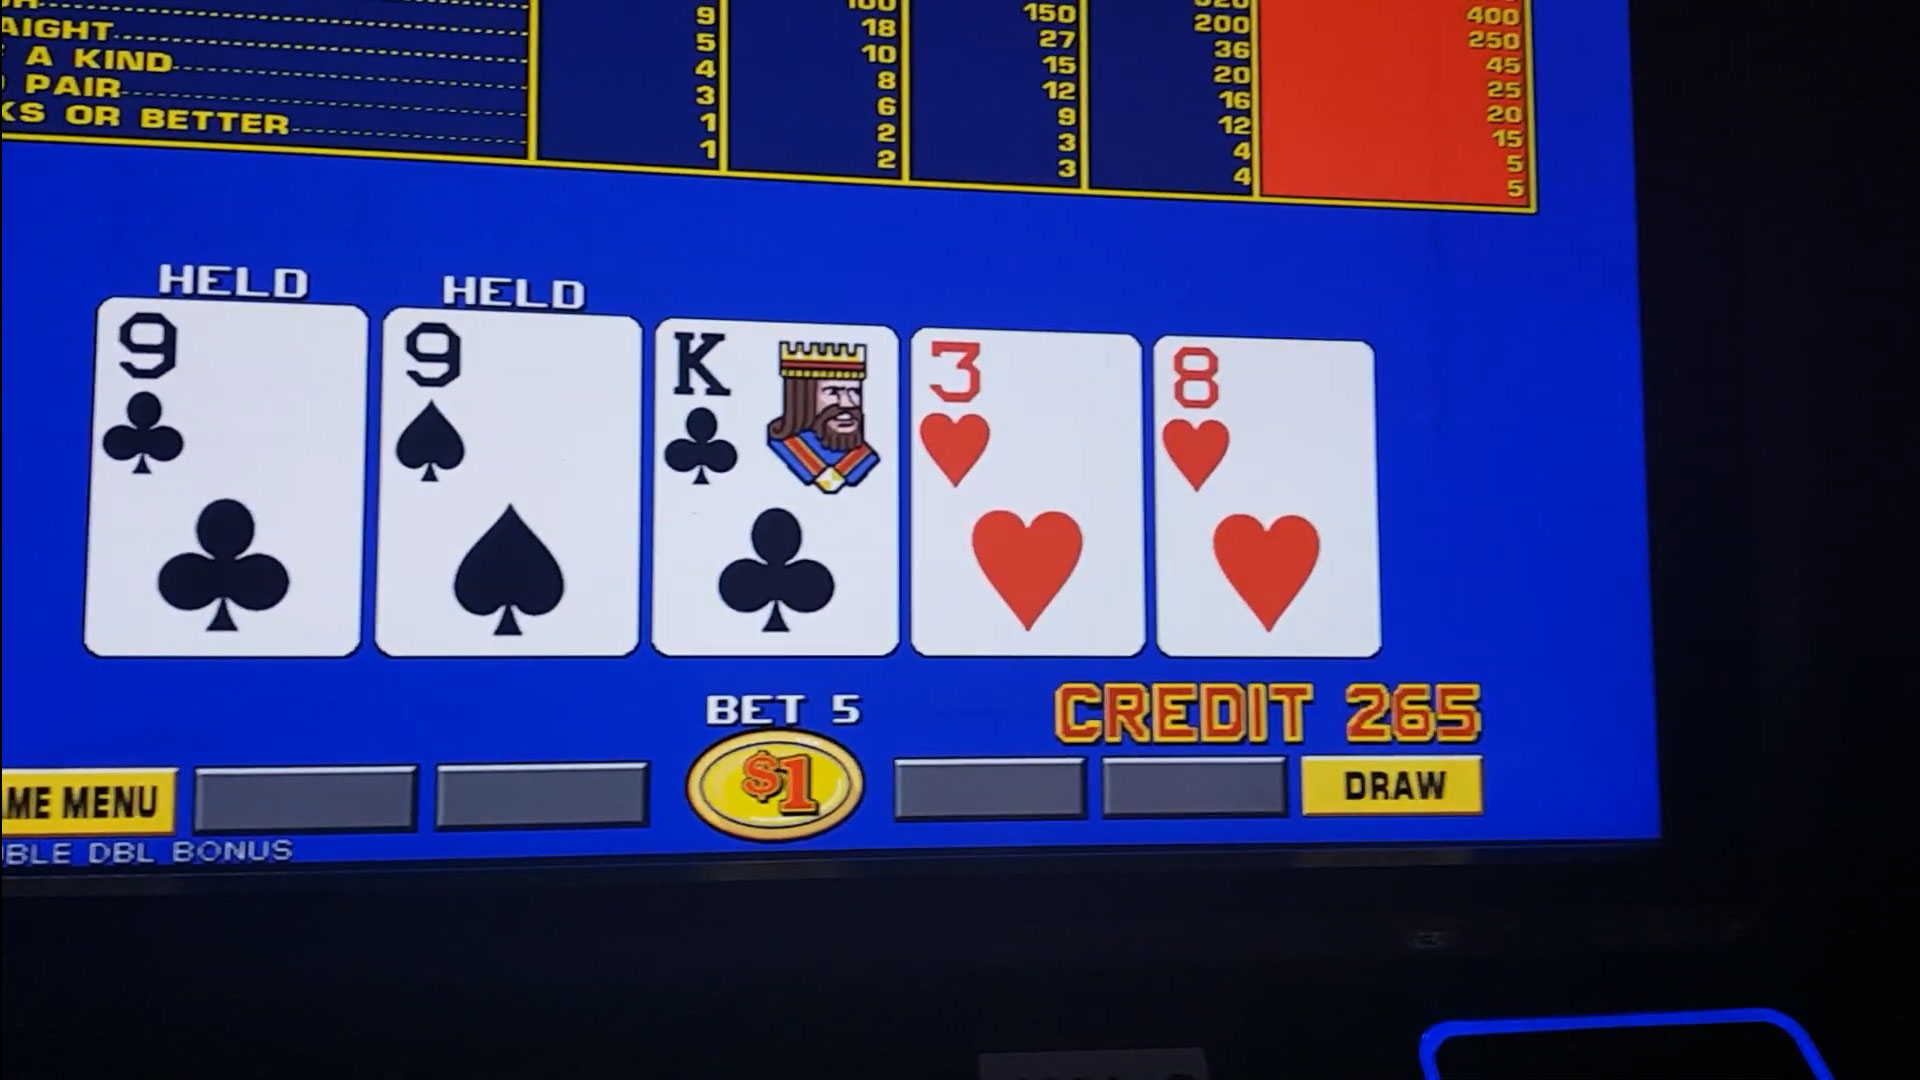C9: (103, 309, 357, 492)
CK: (651, 330, 897, 502)
H5: (919, 334, 1135, 502)
H8: (1159, 345, 1373, 502)
S9: (397, 309, 630, 495)
